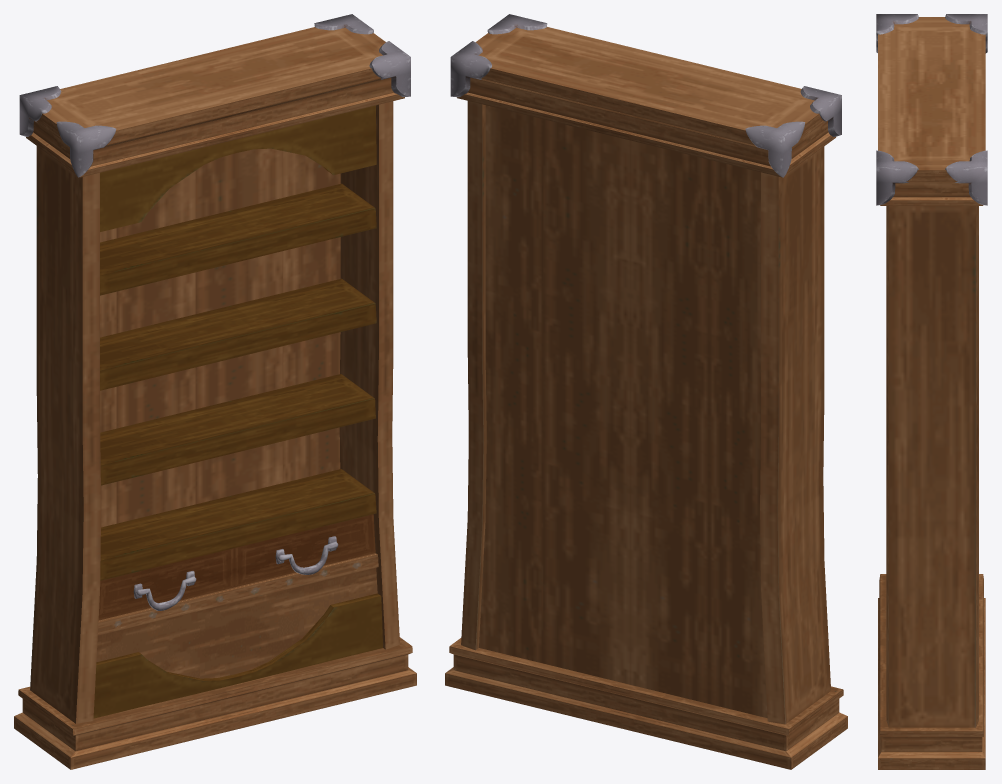
Rendered from Bookcase_2.glb.
3 views of the same model, side by side, from view 1: azimuth 30°, elevation 25°; view 2: azimuth 150°, elevation 25°; view 3: azimuth 270°, elevation 25° (orthographic). The views are drawn at different scales.
Visible parts, largest first — view 1: Bookcase_2; view 2: Bookcase_2; view 3: Bookcase_2.
Boxes of the visible parts, left/top/right/bottom form: Bookcase_2: left=14, top=14, right=416, bottom=769; Bookcase_2: left=445, top=14, right=847, bottom=769; Bookcase_2: left=876, top=14, right=987, bottom=769.
Size of the model in its own units: 1.46 by 2.54 by 0.429.
2 materials, 2 textured.
